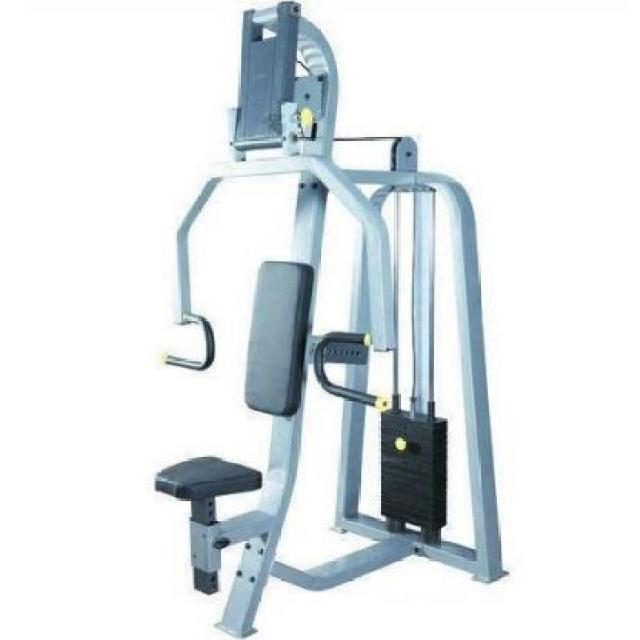Chest Press machine: (132, 0, 518, 640)
